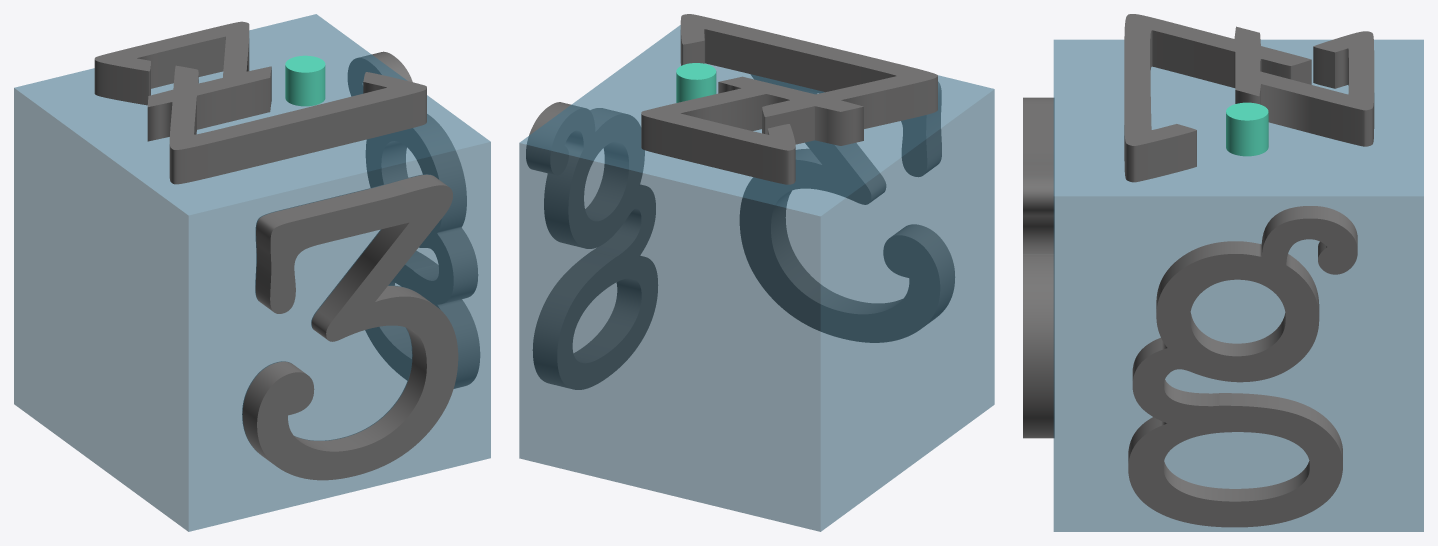
3 renders of one model, left to right at view 1: azimuth 30°, elevation 25°; view 2: azimuth 150°, elevation 25°; view 3: azimuth 270°, elevation 25°, orthographic. The views are drawn at different scales.
Parts seen in each view (by area): view 1: Cube, Text.001, Curve, Text, Cylinder; view 2: Cube, Curve, Text, Text.001, Cylinder; view 3: Cube, Text, Curve, Text.001, Cylinder.
Part boxes in pixels (box(x1,y1,x2,y2)): Cube: box(14, 14, 490, 531); Text.001: box(242, 174, 458, 480); Curve: box(94, 21, 426, 184); Text: box(348, 51, 479, 388); Cylinder: box(285, 55, 325, 106); Cube: box(519, 25, 994, 531); Curve: box(641, 14, 937, 184); Text: box(526, 102, 657, 389); Text.001: box(740, 74, 954, 342); Cylinder: box(676, 63, 716, 102); Cube: box(1053, 39, 1423, 531); Text: box(1128, 206, 1357, 527); Curve: box(1124, 14, 1374, 182); Text.001: box(1023, 97, 1054, 438); Cylinder: box(1226, 102, 1268, 156).
Size of the model in its own units: 2.16 by 2.22 by 2.16.
Materials: 3 (1 with a texture image).
